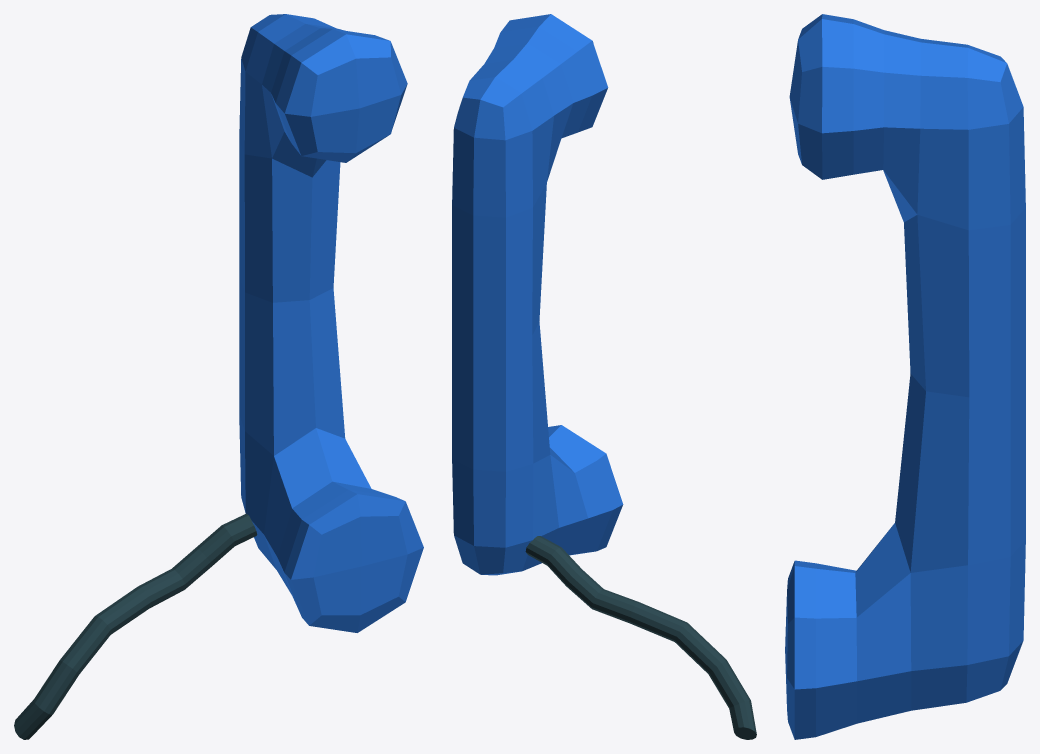
File: Telephone.gltf
The picture shows the model from 3 angles, left to right: view 1: azimuth 30°, elevation 25°; view 2: azimuth 150°, elevation 25°; view 3: azimuth 270°, elevation 25°; orthographic projection. The views are drawn at different scales.
Parts seen in each view (by area): view 1: Phone_Mesh, Wire_Mesh; view 2: Phone_Mesh, Wire_Mesh; view 3: Phone_Mesh.
Part boxes in pixels (bbox=[...]): Phone_Mesh: bbox=[239, 14, 423, 632]; Wire_Mesh: bbox=[14, 513, 257, 739]; Phone_Mesh: bbox=[452, 14, 623, 575]; Wire_Mesh: bbox=[525, 536, 756, 739]; Phone_Mesh: bbox=[785, 14, 1025, 739].
Bounding box in the file's own units: 7.86 × 14.88 × 3.95.
